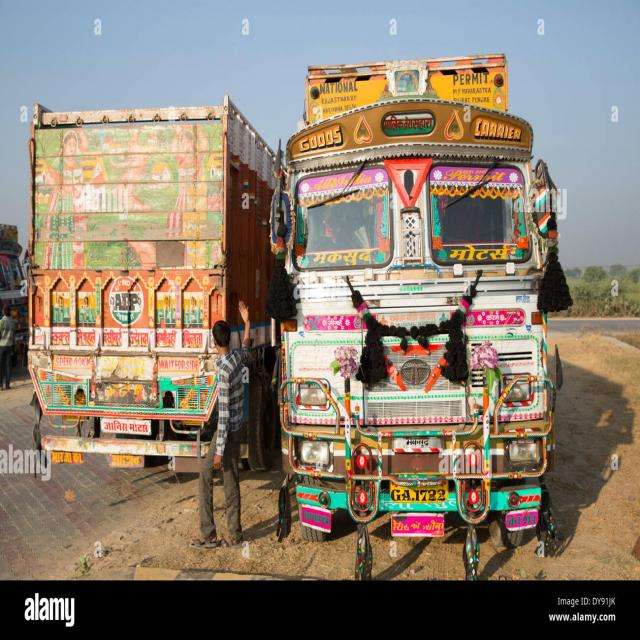Truck: (279, 105, 547, 535)
